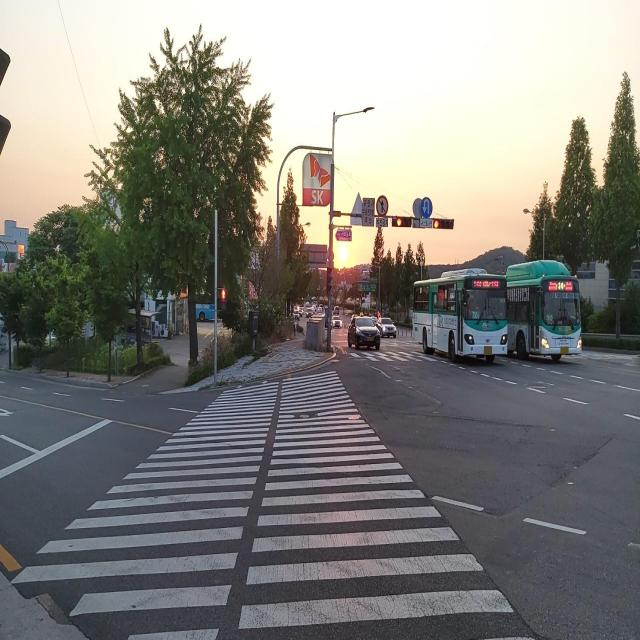횡단보도: (11, 366, 513, 640), (341, 344, 611, 362)
